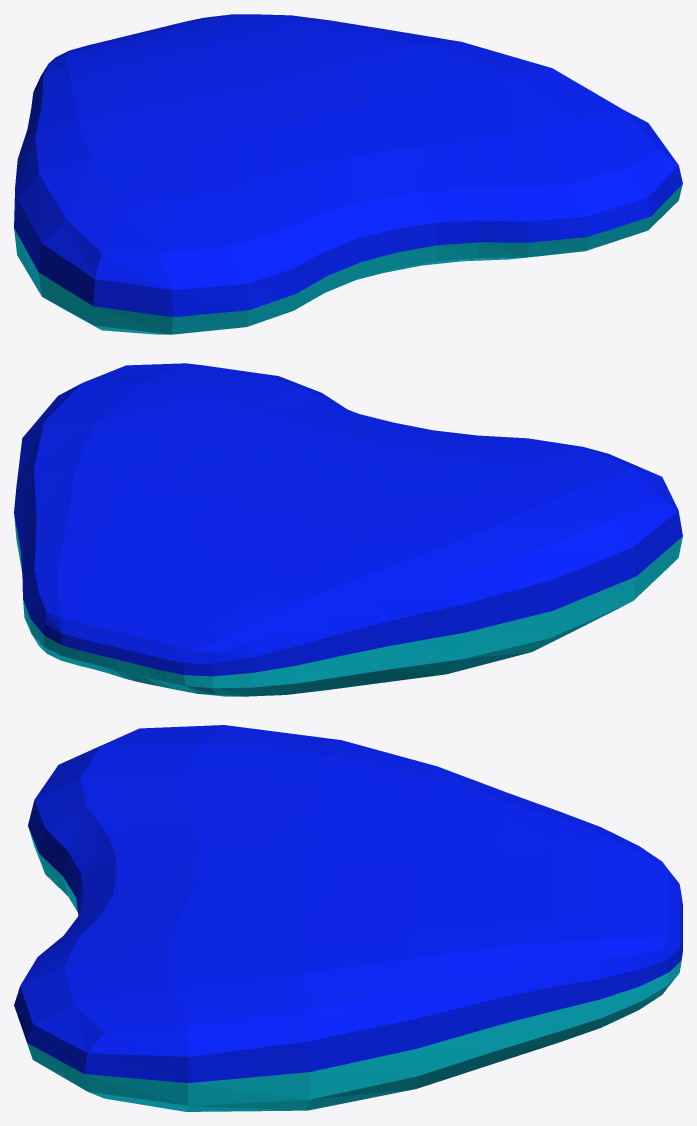
Rendered from menu_island.glb.
3 renders of one model, top to bottom at view 1: azimuth 30°, elevation 25°; view 2: azimuth 150°, elevation 25°; view 3: azimuth 270°, elevation 25°, orthographic. The views are drawn at different scales.
Parts seen in each view (by area): view 1: Cube; view 2: Cube; view 3: Cube.
Boxes of the visible parts, left/top/right/bottom form: Cube: left=14, top=14, right=682, bottom=334; Cube: left=14, top=363, right=682, bottom=696; Cube: left=14, top=725, right=682, bottom=1111.
Bounding box in the file's own units: 3.44 × 0.6502 × 3.09.
